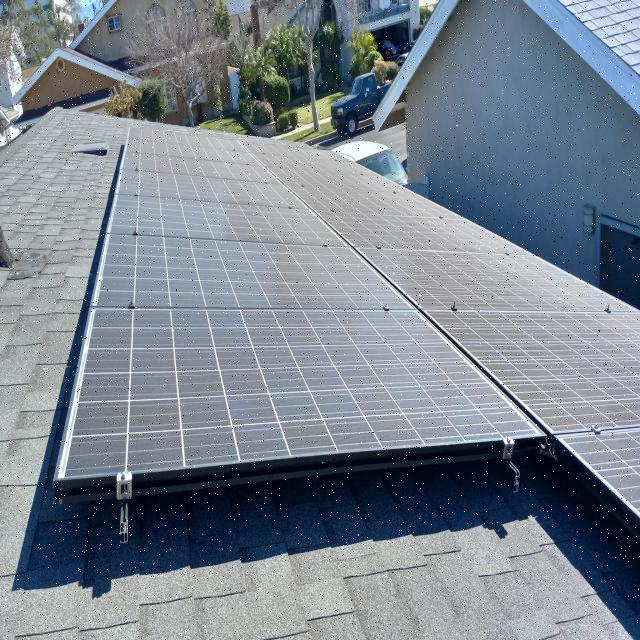dusty: (66, 229, 530, 470)
